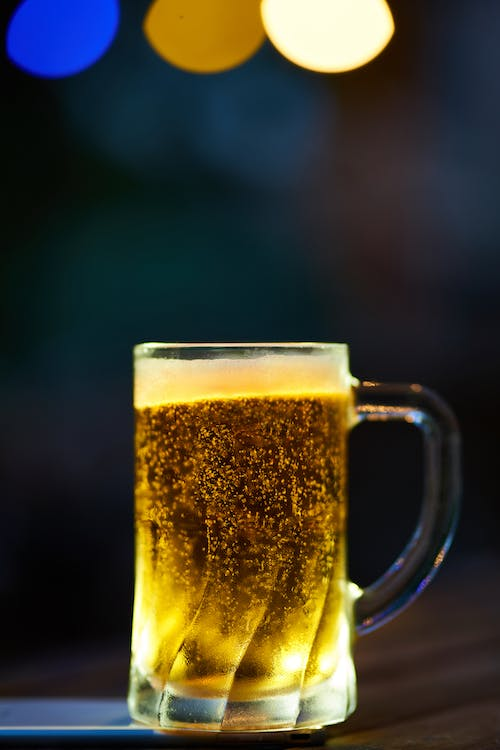alcohol: (125, 338, 466, 741)
